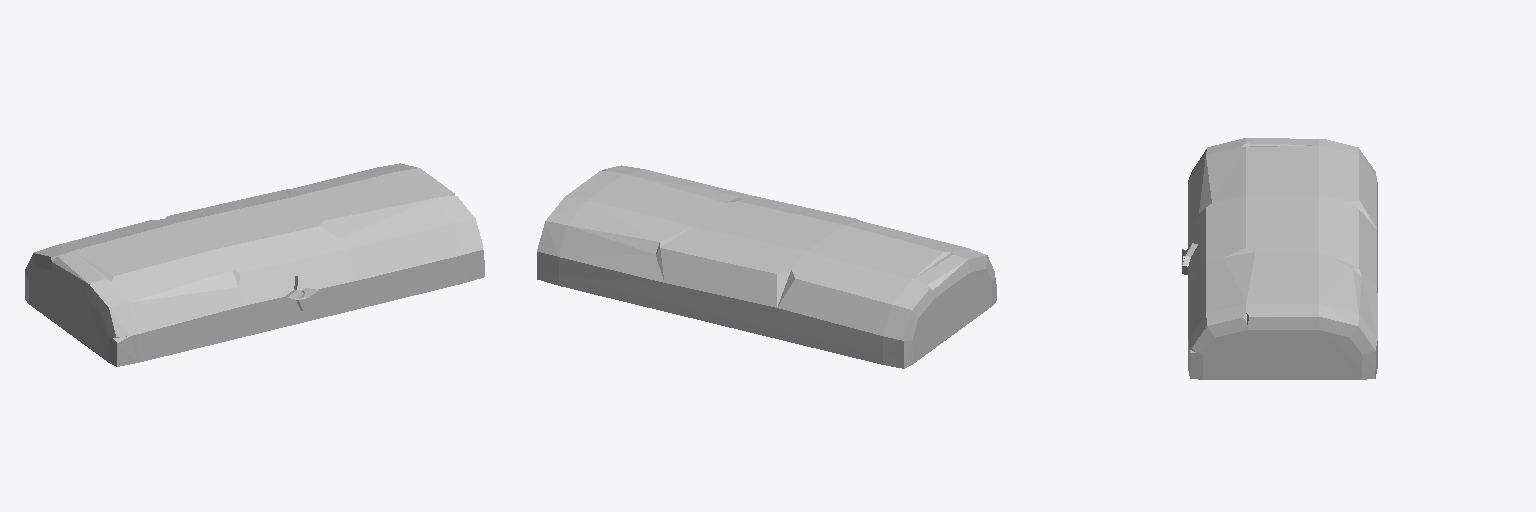
Rendered from Chest lid.obj.
3 renders of one model, left to right at view 1: azimuth 30°, elevation 25°; view 2: azimuth 150°, elevation 25°; view 3: azimuth 270°, elevation 25°, orthographic.
Parts seen in each view (by area): view 1: Chest_lid; view 2: Chest_lid; view 3: Chest_lid.
Part boxes in pixels (bbox=[...]): Chest_lid: bbox=[25, 163, 484, 366]; Chest_lid: bbox=[537, 165, 996, 368]; Chest_lid: bbox=[1182, 138, 1377, 379].
Bounding box in the file's own units: 1.61 × 0.2751 × 0.7346.